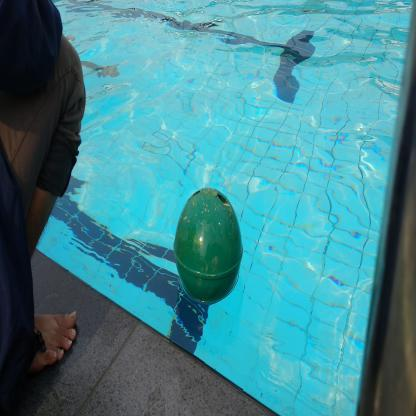green_buoy: (172, 182, 248, 306)
